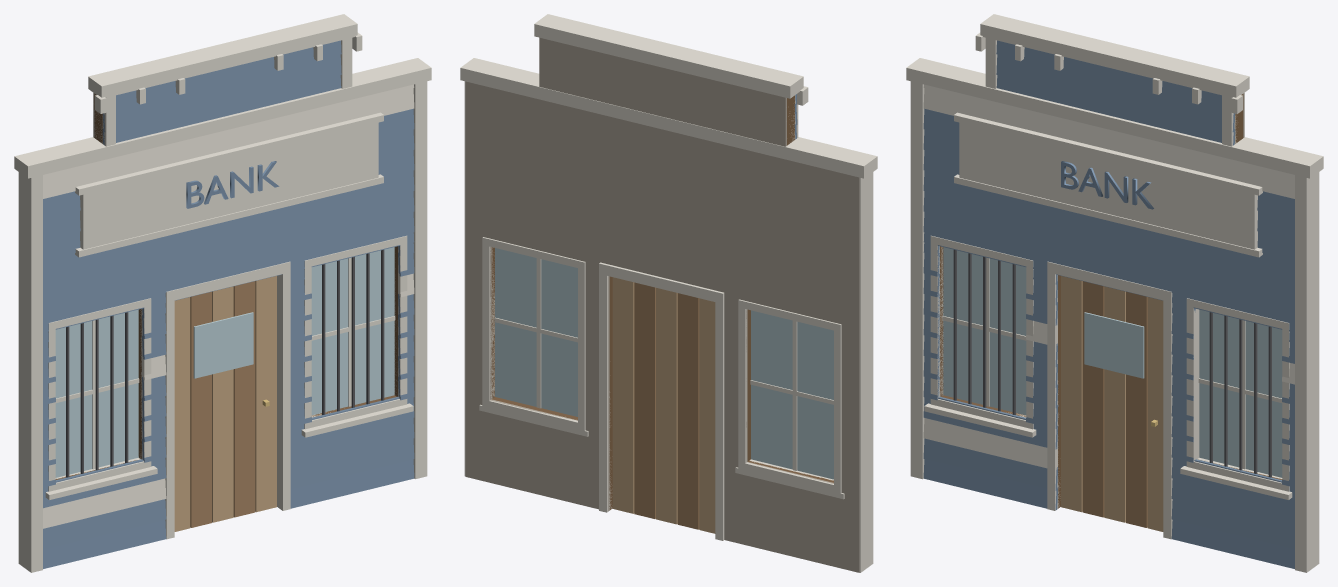
The model's file is SM_Facade_Bank.glb.
The picture shows the model from 3 angles, left to right: view 1: azimuth 30°, elevation 25°; view 2: azimuth 150°, elevation 25°; view 3: azimuth 330°, elevation 25°; orthographic projection.
Parts seen in each view (by area): view 1: SM_Facade_Bank; view 2: SM_Facade_Bank; view 3: SM_Facade_Bank.
Part boxes in pixels (left/top/right/bottom): SM_Facade_Bank: left=14, top=14, right=431, bottom=572; SM_Facade_Bank: left=460, top=14, right=877, bottom=572; SM_Facade_Bank: left=906, top=14, right=1323, bottom=572.
Bounding box in the file's own units: 4.1 × 4.56 × 0.305.
